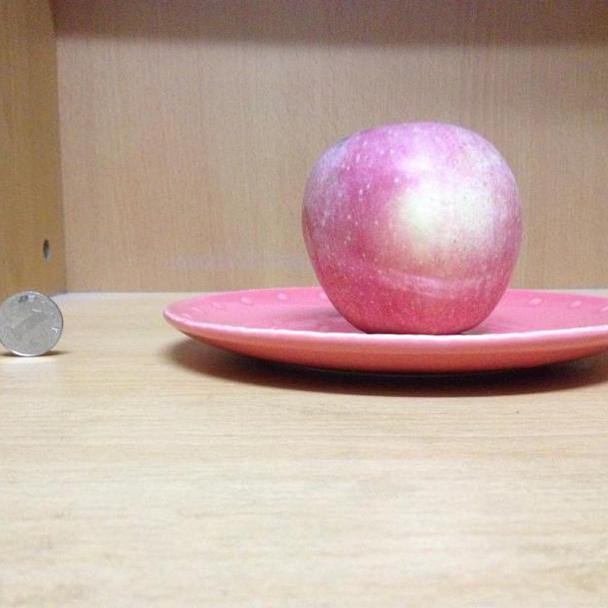apple: (301, 119, 525, 330)
